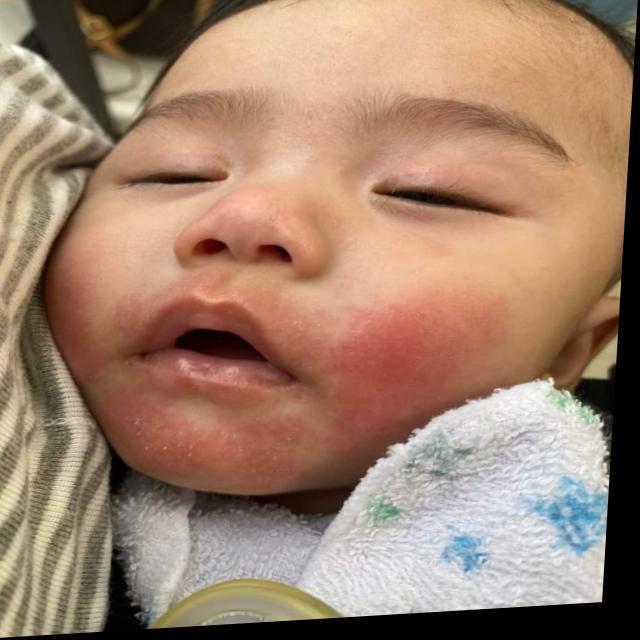Eczema Mild: (41, 284, 514, 499)
